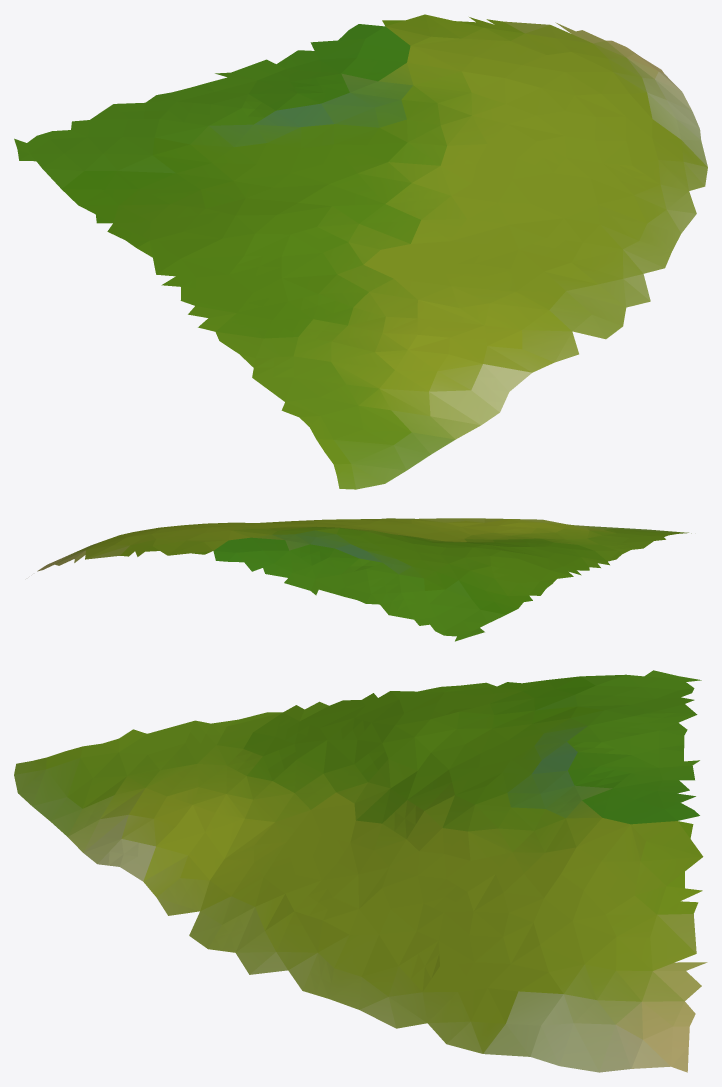
File: chunk_3_3_LOD0.glb
3 renders of one model, top to bottom at view 1: azimuth 30°, elevation 25°; view 2: azimuth 150°, elevation 25°; view 3: azimuth 270°, elevation 25°, orthographic. The views are drawn at different scales.
Visible parts, largest first — view 1: world; view 2: world; view 3: world.
Part boxes in pixels (x1,y1,x2,y2): world: (14, 14, 707, 489); world: (37, 518, 691, 641); world: (14, 670, 707, 1072).
Bounding box in the file's own units: 23.28 × 4.51 × 21.28.
1 material, 1 textured.
